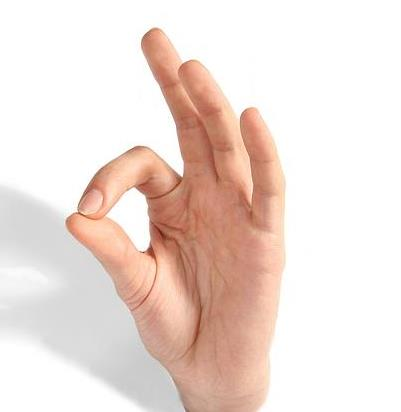left: (59, 23, 297, 386)
